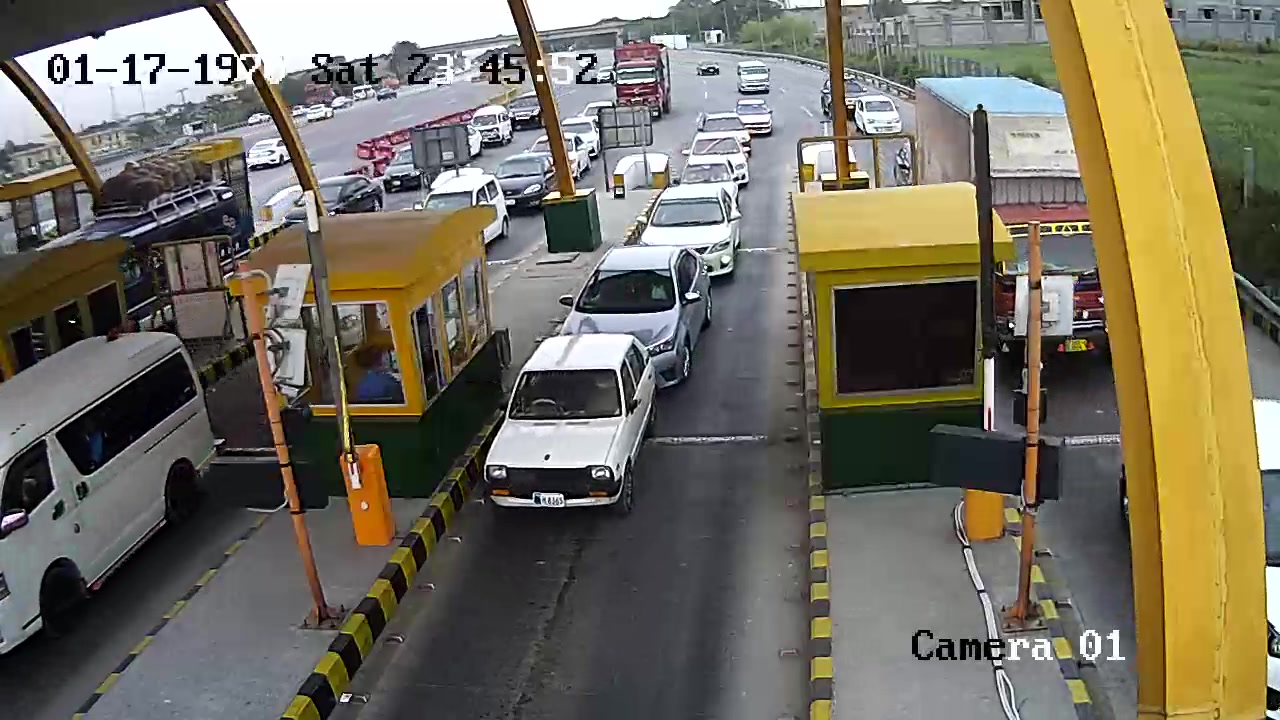F1: (475, 335, 658, 530)
